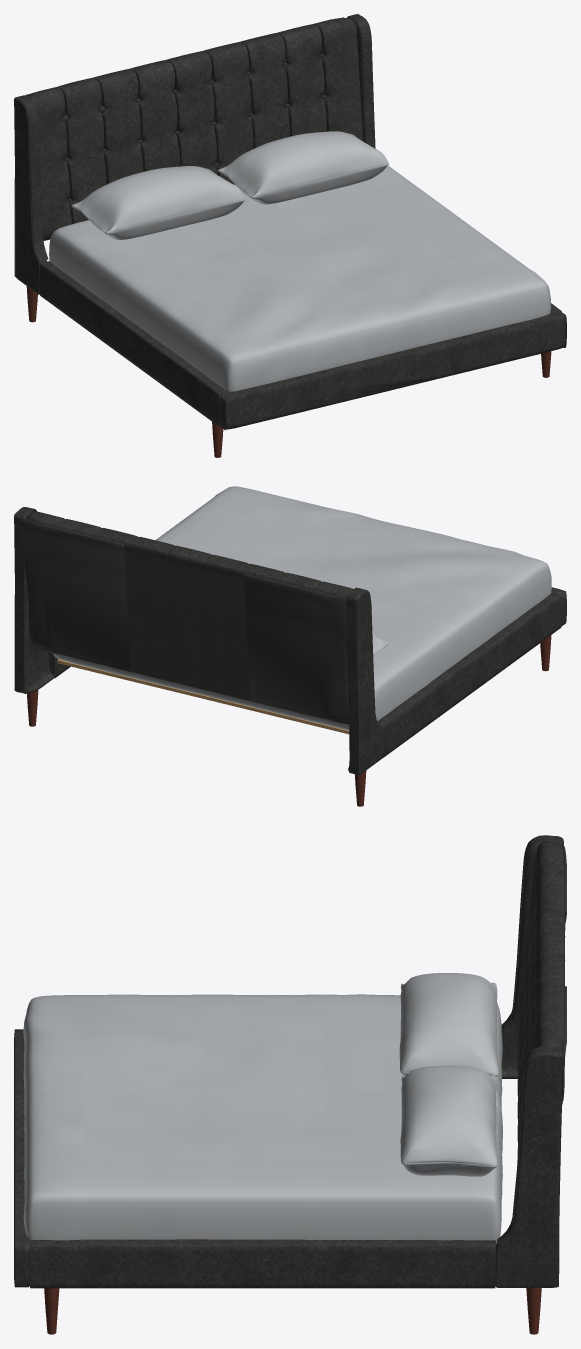
File: B075QFCHLB.glb
3 renders of one model, top to bottom at view 1: azimuth 30°, elevation 25°; view 2: azimuth 150°, elevation 25°; view 3: azimuth 270°, elevation 25°, orthographic. The views are drawn at different scales.
Visible parts, largest first — view 1: RootNode; view 2: RootNode; view 3: RootNode.
Part boxes in pixels (x1,y1,x2,y2): RootNode: (14, 14, 566, 457); RootNode: (14, 486, 566, 806); RootNode: (14, 835, 566, 1334).
Bounding box in the file's own units: 1.9 × 1.16 × 2.03.
1 material, 1 textured.
